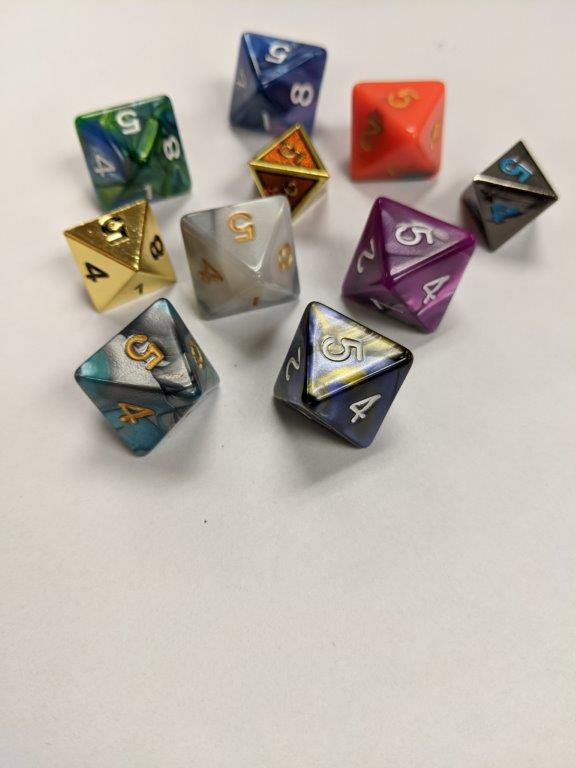d8-5: (74, 297, 218, 458), (271, 300, 413, 454), (336, 195, 474, 335), (179, 195, 305, 320), (76, 95, 192, 213), (62, 200, 178, 314), (228, 30, 325, 138), (462, 141, 556, 252), (351, 81, 442, 178), (243, 122, 330, 218)
